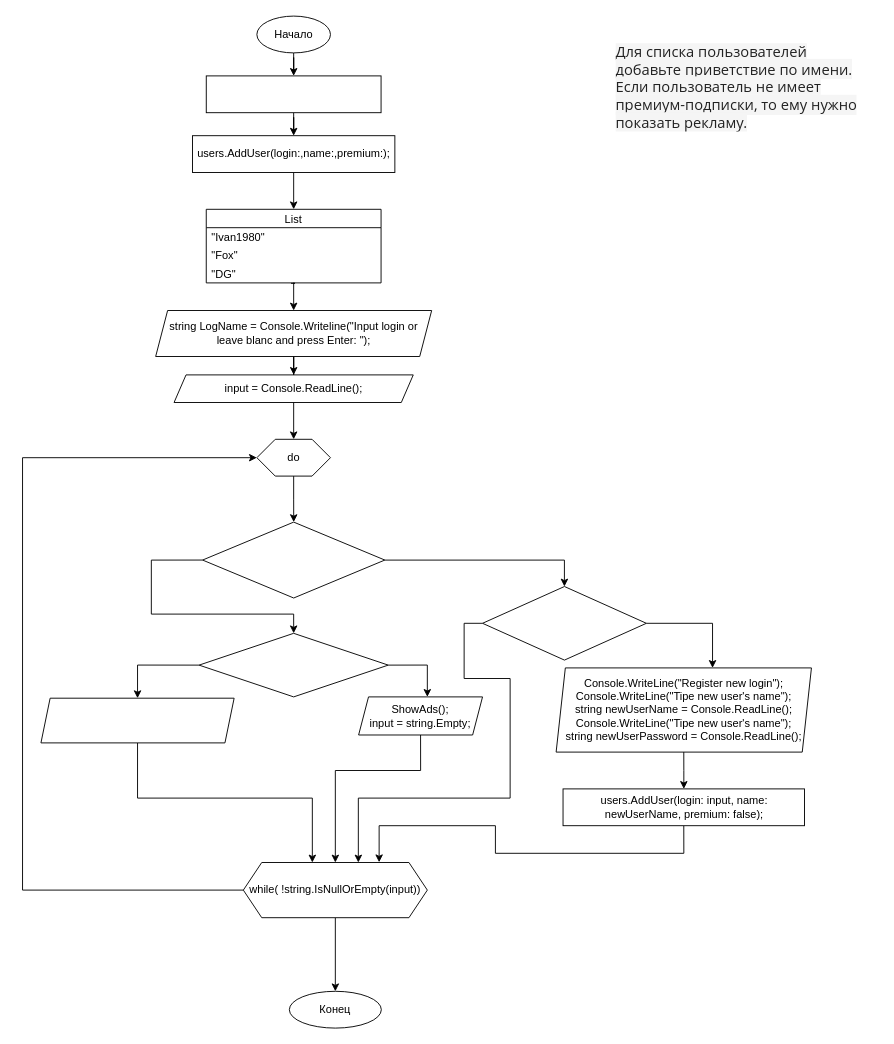
Image size: 894x1044. Some labels were removed from this diagram. The shapes that lost their labels are listed below. From the top down, each one's centre as x and y in pixels, then its label:
pixel 293 94: UserList users = new UserList();
pixel 293 559: users.IsUserInList( input )
pixel 564 623: string.IsNullOrEmpty(input)
pixel 293 664: users.IsUserPremium( input )
pixel 137 720: Console.WriteLine("Greetings!); input = string.Empty
